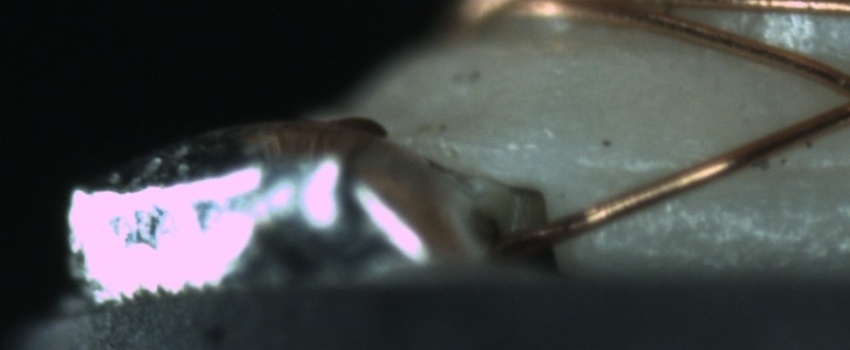CL: (830, 69, 850, 124)
DL: (612, 138, 848, 210)
